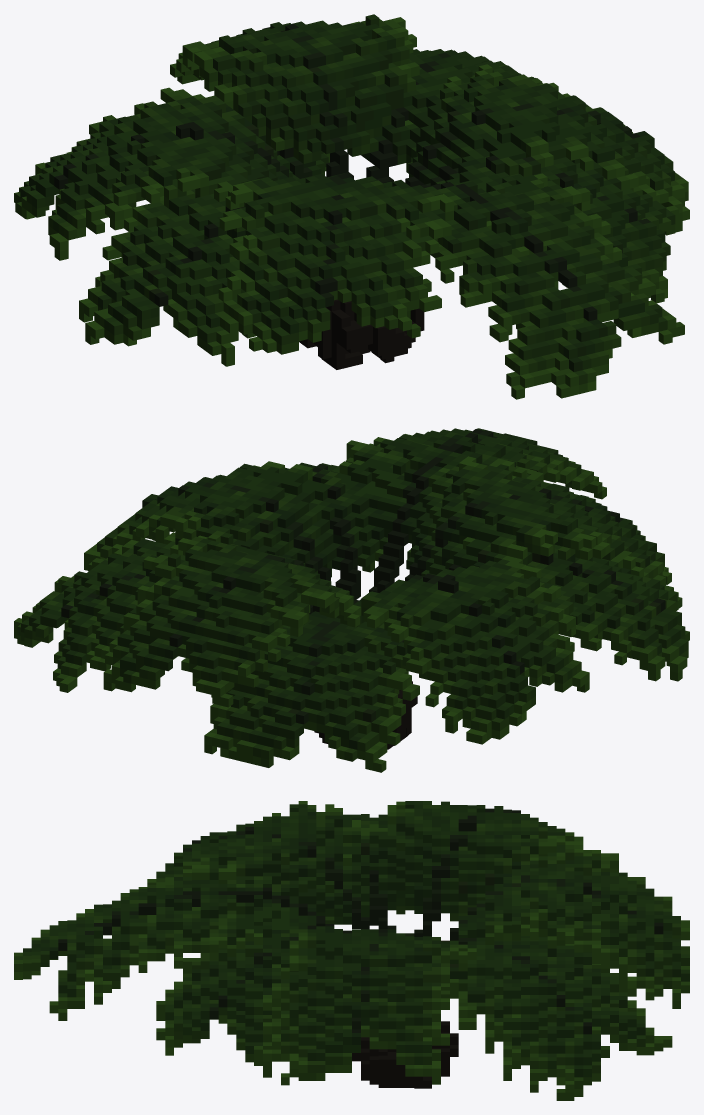
File: samambaia_larga_hero_01_LOD2.fbx
3 views of the same model, one above another, from view 1: azimuth 30°, elevation 25°; view 2: azimuth 150°, elevation 25°; view 3: azimuth 270°, elevation 25° (orthographic). The views are drawn at different scales.
Parts seen in each view (by area): view 1: samambaia_larga_hero_01_LOD2; view 2: samambaia_larga_hero_01_LOD2; view 3: samambaia_larga_hero_01_LOD2.
Boxes of the visible parts, x1,y1,x2,y2 form: samambaia_larga_hero_01_LOD2: (14,14,689,399); samambaia_larga_hero_01_LOD2: (14,428,689,772); samambaia_larga_hero_01_LOD2: (14,801,689,1100).
Bounding box in the file's own units: 419 × 162 × 475.
